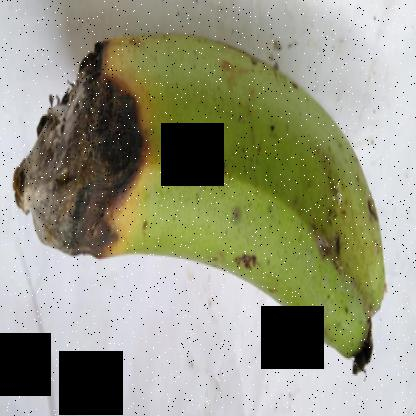rotten: (6, 9, 184, 275)
unripe: (154, 29, 394, 384)
